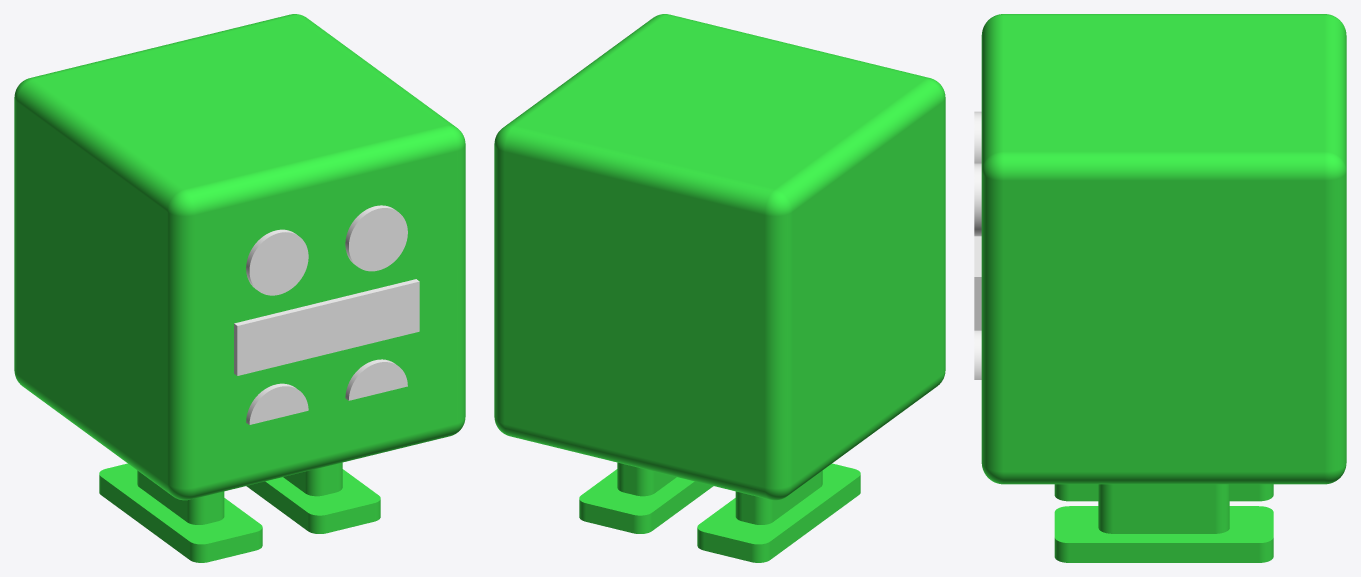
The model's file is holi_big_size_3.dae.
3 renders of one model, left to right at view 1: azimuth 30°, elevation 25°; view 2: azimuth 150°, elevation 25°; view 3: azimuth 270°, elevation 25°, orthographic. The views are drawn at different scales.
Visible parts, largest first — view 1: mesh2, mesh34, mesh19, mesh7, mesh27, mesh16, mesh26, mesh67, mesh28, mesh20, mesh0, mesh15 (+14 smaller); view 2: mesh32, mesh34, mesh19, mesh36, mesh25, mesh26, mesh67, mesh38, mesh30, mesh57, mesh71, mesh37 (+8 smaller); view 3: mesh23, mesh19, mesh21, mesh30, mesh20, mesh49, mesh29, mesh57, mesh58, mesh25, mesh16, mesh68 (+6 smaller).
Boxes of the visible parts, <box> form: mesh2: <box>195,152,455,487</box>; mesh34: <box>17,102,167,483</box>; mesh19: <box>35,16,444,188</box>; mesh7: <box>237,281,419,375</box>; mesh27: <box>167,212,195,488</box>; mesh16: <box>185,126,455,214</box>; mesh26: <box>17,79,184,211</box>; mesh67: <box>99,463,262,544</box>; mesh28: <box>191,424,455,499</box>; mesh20: <box>455,145,465,423</box>; mesh0: <box>249,232,308,295</box>; mesh15: <box>349,208,407,271</box>; mesh32: <box>504,152,764,487</box>; mesh34: <box>792,102,942,483</box>; mesh19: <box>515,16,924,188</box>; mesh36: <box>764,212,792,488</box>; mesh25: <box>504,126,774,214</box>; mesh26: <box>775,79,942,211</box>; mesh67: <box>697,463,860,544</box>; mesh38: <box>504,424,768,499</box>; mesh30: <box>494,145,504,423</box>; mesh57: <box>579,469,694,515</box>; mesh71: <box>770,477,858,559</box>; mesh37: <box>789,374,942,494</box>; mesh23: <box>1003,180,1324,471</box>; mesh19: <box>1003,16,1324,151</box>; mesh21: <box>1003,151,1324,180</box>; mesh30: <box>1324,172,1346,471</box>; mesh20: <box>981,172,1003,471</box>; mesh49: <box>1113,484,1215,533</box>; mesh29: <box>1003,471,1324,484</box>; mesh57: <box>1054,506,1273,542</box>; mesh58: <box>1069,543,1258,562</box>; mesh25: <box>1324,16,1346,170</box>; mesh16: <box>981,16,1003,169</box>; mesh68: <box>1069,484,1258,501</box>.
Size of the model in its own units: 0.05 by 0.051 by 0.065.
